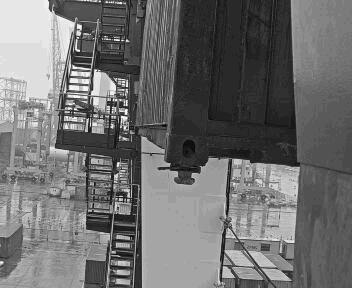twist_lock_1: (153, 167, 211, 214)
